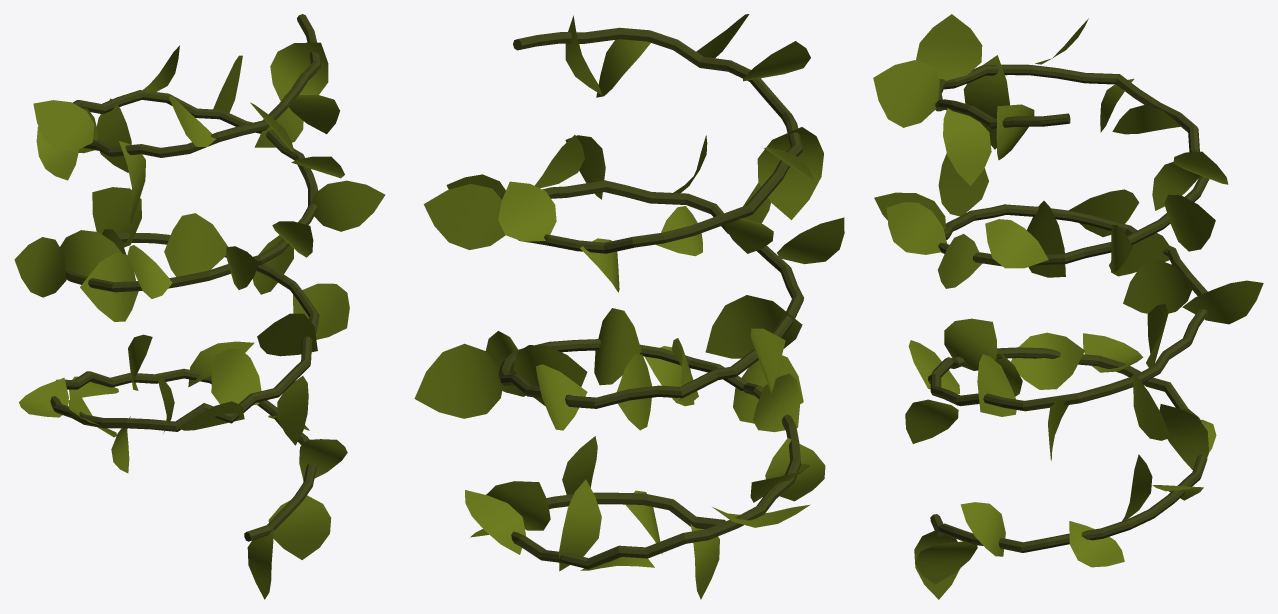
Rendered from ivy_circular.fbx.
3 views of the same model, side by side, from view 1: azimuth 30°, elevation 25°; view 2: azimuth 150°, elevation 25°; view 3: azimuth 270°, elevation 25° (orthographic). The views are drawn at different scales.
Parts seen in each view (by area): view 1: Sweep, Plane_22, Plane_13, Plane_38, Plane_5, Plane_18, Plane_0, Plane_17, Plane_35, Plane_21, Plane_24, Plane_25 (+23 smaller); view 2: Sweep, Plane_23, Plane_10, Plane_17, Plane_4, Plane_9, Plane_25, Plane_33, Plane_34, Plane_16, Plane_28, Plane_35 (+24 smaller); view 3: Sweep, Plane_2, Plane_3, Plane_20, Plane_1, Plane_30, Plane_14, Plane_12, Plane_21, Plane_28, Plane_10, Plane_33 (+25 smaller).
Part boxes in pixels (x1,y1,x2,y2): Sweep: (50,14,320,541); Plane_22: (164,213,228,276); Plane_13: (311,180,385,231); Plane_38: (268,495,331,559); Plane_5: (33,100,94,151); Plane_18: (14,237,66,297); Plane_0: (270,42,328,101); Plane_17: (80,252,138,321); Plane_35: (211,348,261,405); Plane_21: (92,187,141,247); Plane_24: (293,283,349,339); Plane_25: (257,313,317,356); Sweep: (498,27,803,569); Plane_23: (414,343,503,418); Plane_10: (423,184,505,249); Plane_17: (705,295,802,358); Plane_4: (757,127,823,219); Plane_9: (498,181,556,241); Plane_25: (594,308,641,385); Plane_33: (559,479,601,571); Plane_34: (465,490,525,554); Plane_16: (777,217,844,264); Plane_28: (753,373,800,432); Plane_35: (486,481,550,530); Sweep: (928,64,1209,552); Plane_2: (873,60,939,127); Plane_3: (916,14,982,80); Plane_20: (1123,259,1191,313); Plane_1: (943,107,991,185); Plane_30: (1011,332,1084,389); Plane_14: (886,202,946,254); Plane_12: (985,219,1048,268); Plane_21: (1182,280,1263,324); Plane_28: (944,318,996,370); Plane_10: (1164,194,1215,251); Plane_33: (1159,404,1209,469).
Size of the model in its own units: 138 by 224 by 147.
